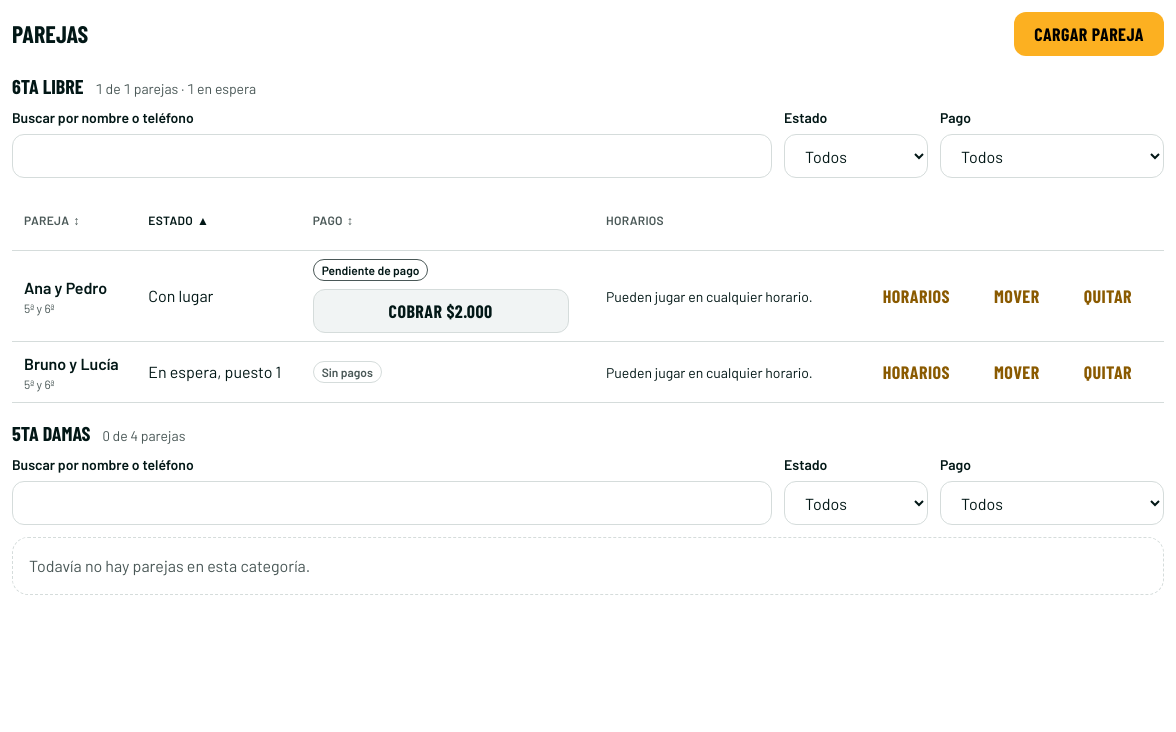
it: PairsBoard › filters the waiting line
Step 1. Select "En espera" in the 1st dropdown labelled "Estado" → (856,156), box [784,134,928,178]
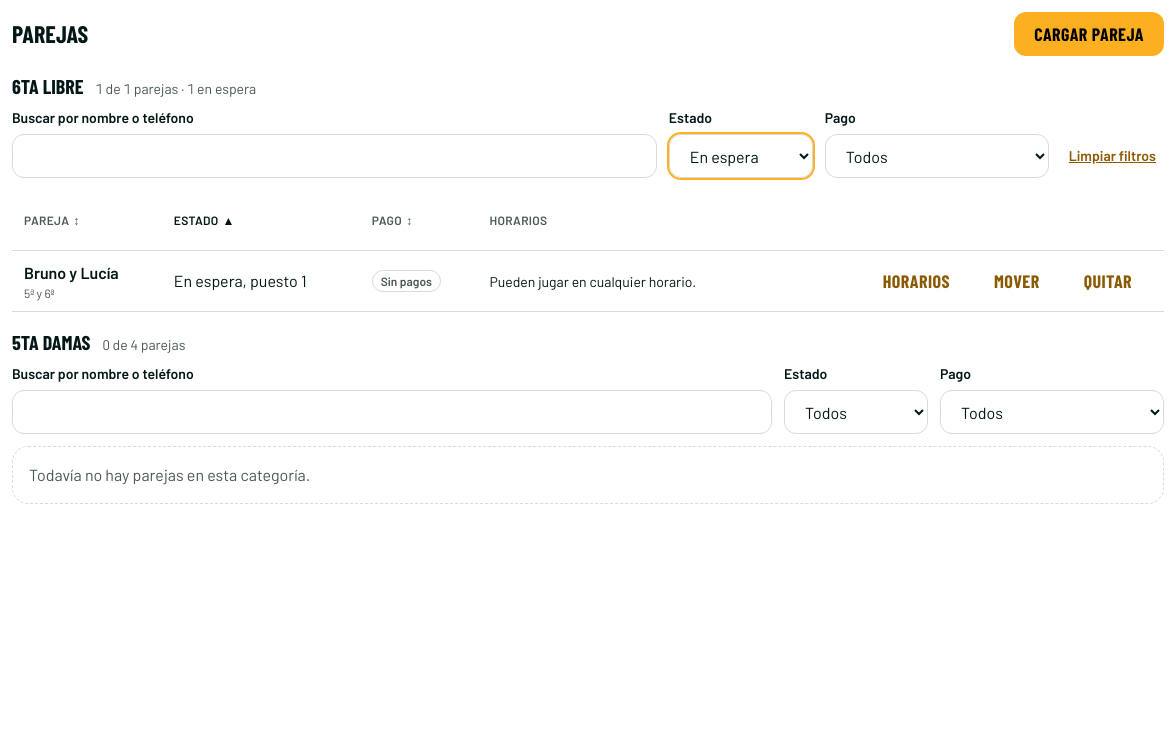
Expected: the row "Bruno y Lucía" is shown, [12,251,1164,312]
Now the text "Ana y Pedro" is gone
